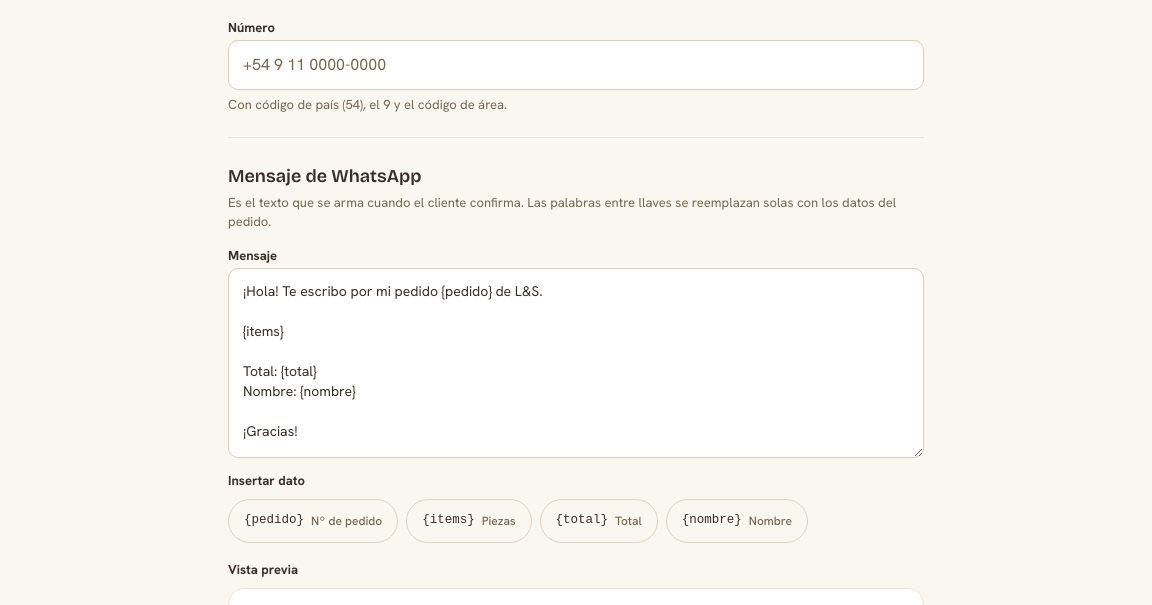
Test: AjustesPage › inserta un dato y guarda el número solo con dígitos
Replace the text in the text box labelled "Mensaje" with "Pedido:" at (576,363), box [228,268,924,458]
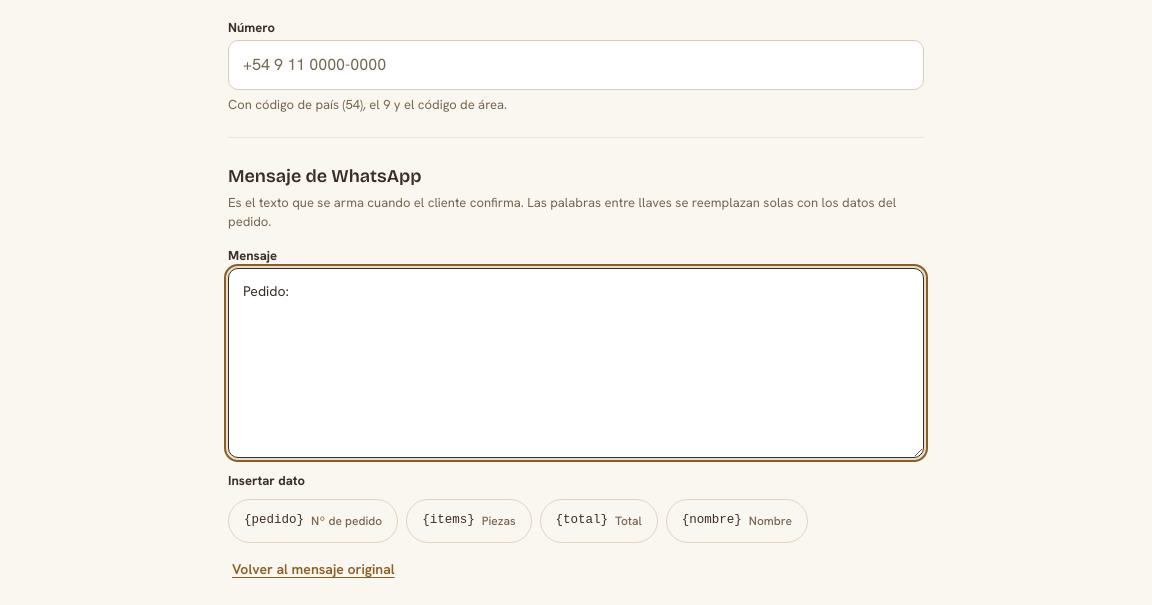
Click the button with aria-label "Insertar Piezas" at (469,521), box [406,499,532,543]
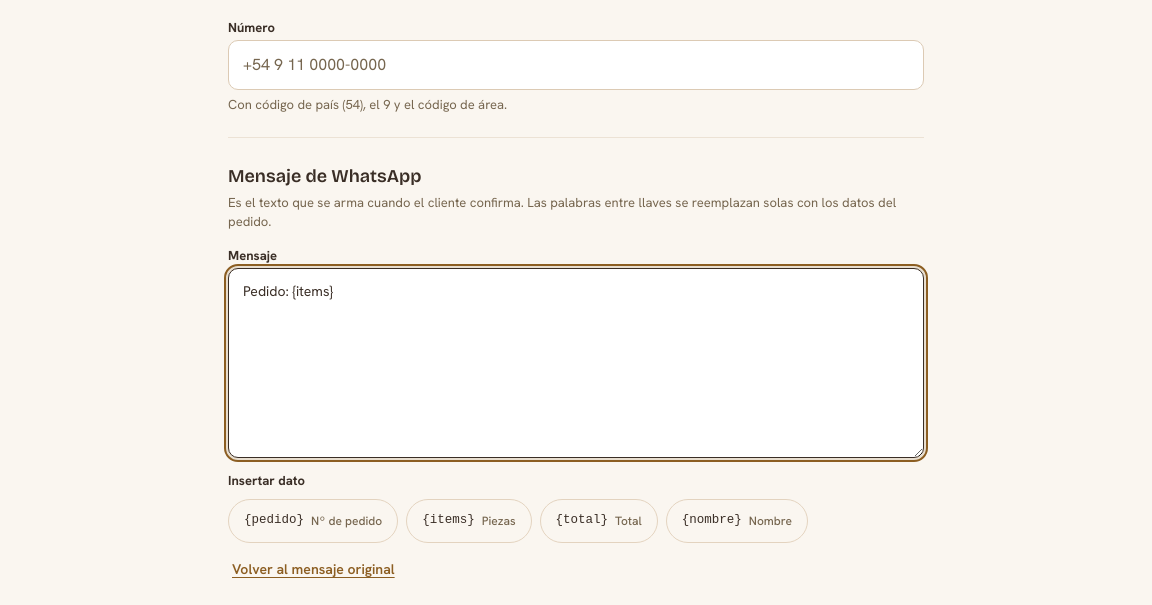
Now the button "Volver al mensaje original" is shown, box [228,547,399,591]
Now the text box labelled "Mensaje" holds "Pedido: {items}", box [228,268,924,458]
Type "+54 9 351 555-1234" into the field labelled "Número" at (576,65), box [228,40,924,90]
(page scrolled)
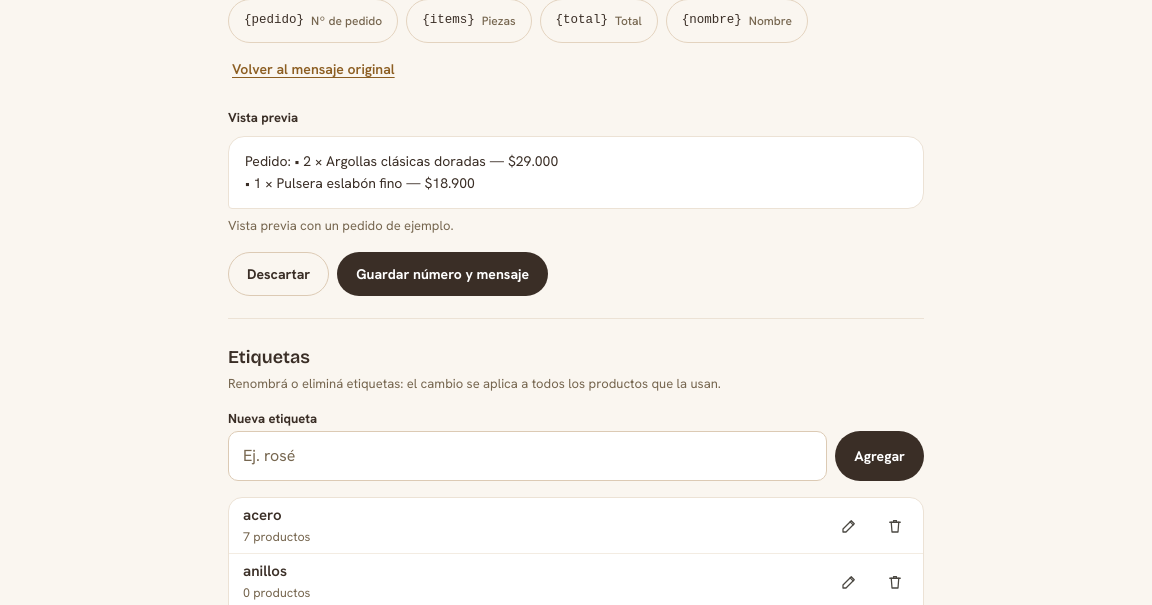
Click the button "Guardar número y mensaje" at (443,274), box [337,252,548,296]
(page scrolled)
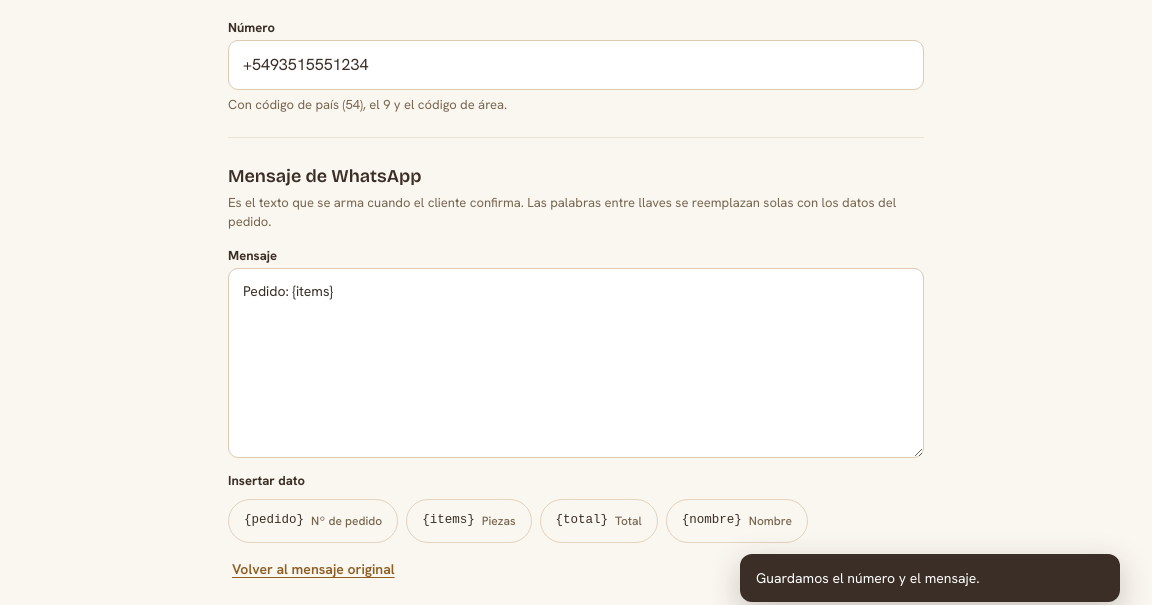
Now the text "Guardamos el número y el mensaje." is shown, box [740,554,1120,602]
Now the field labelled "Número" holds "+5493515551234", box [228,40,924,90]
Now the button "Descartar" is gone
